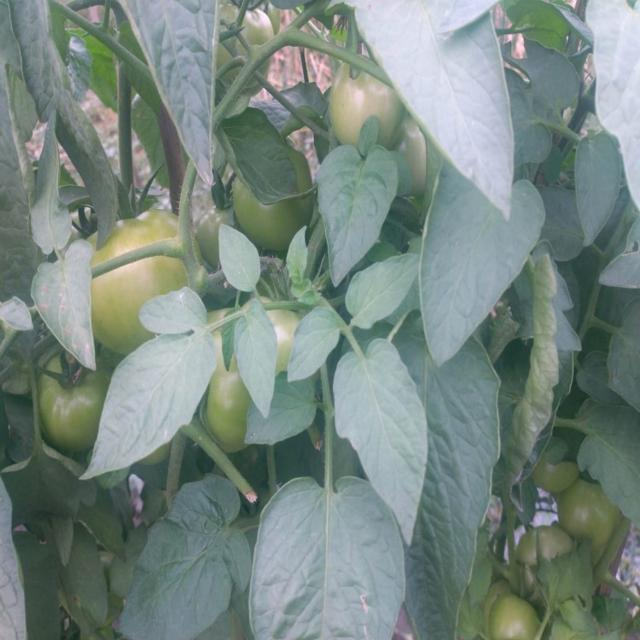tomato: (322, 63, 400, 145), (38, 361, 101, 452), (229, 189, 315, 255), (94, 273, 154, 344), (210, 370, 255, 450), (560, 483, 612, 548), (95, 211, 175, 245), (493, 594, 544, 640), (516, 523, 566, 562), (537, 461, 586, 494)
